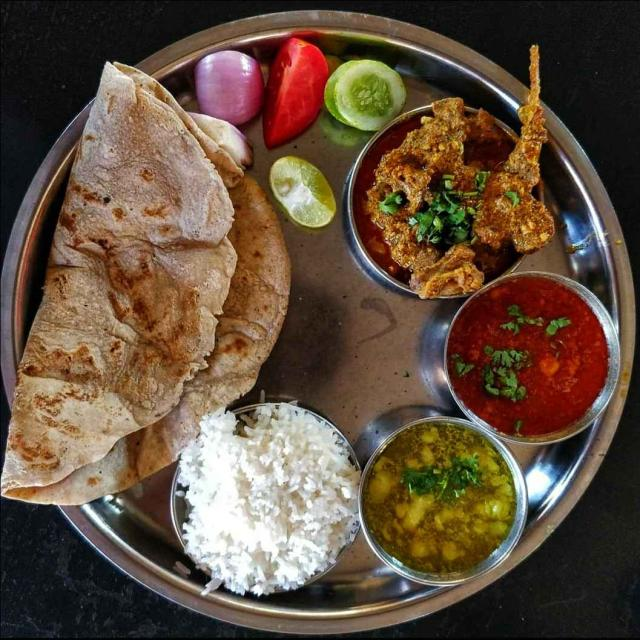non veg meals: (4, 10, 630, 624)
